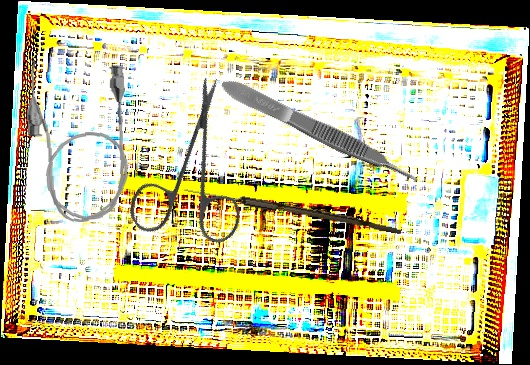Cannula: (23, 53, 134, 226)
Iris Scissors: (89, 73, 295, 277)
Surgical Spoon: (182, 185, 403, 235)
Tissue Forceps: (217, 72, 423, 192)
